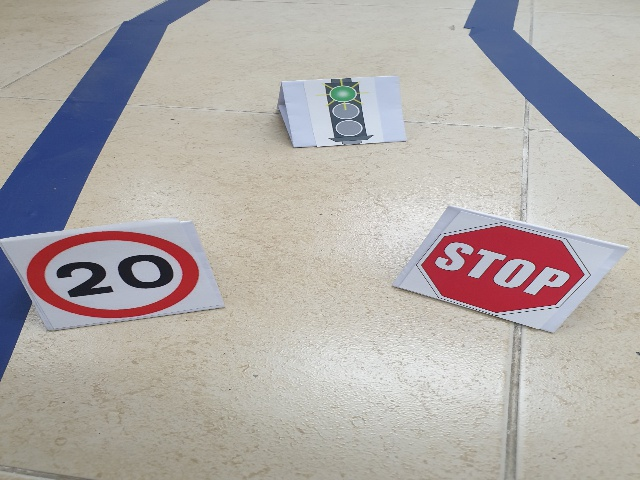Green Light: (301, 78, 384, 146)
Limit 20: (24, 232, 201, 318)
Stop: (423, 222, 589, 317)
